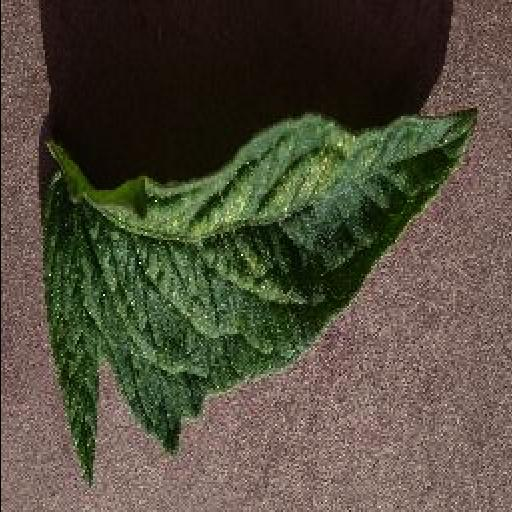disease_tomato: (36, 107, 486, 488)
